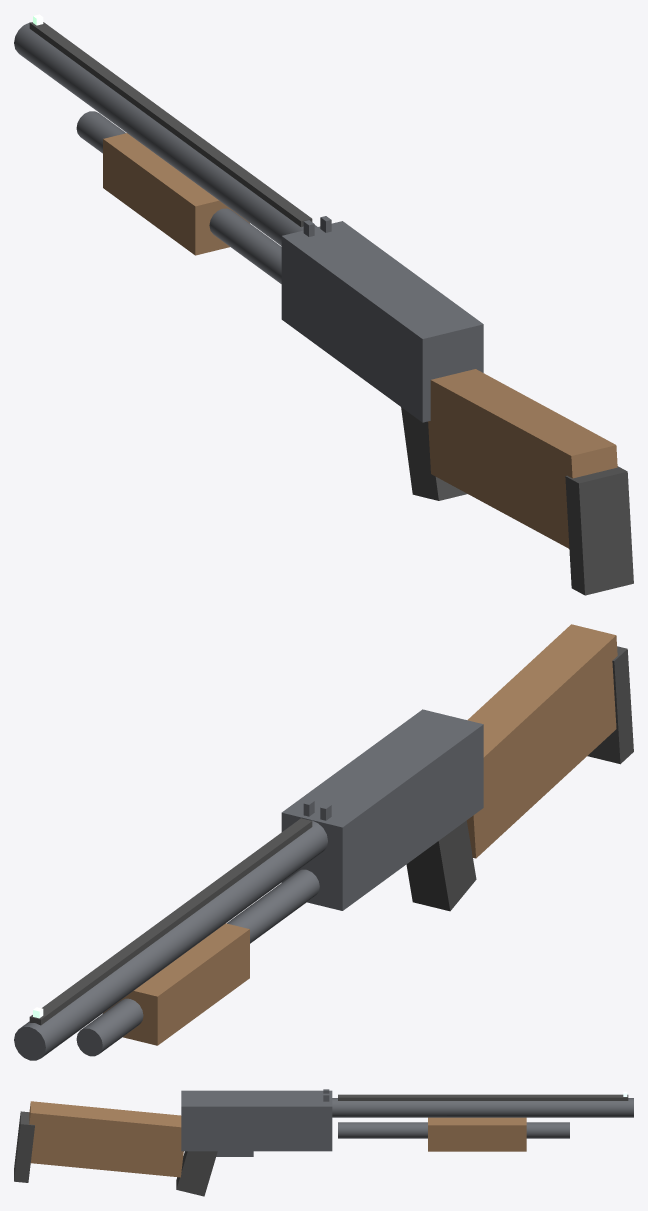
Rendered from shotgun.glb.
3 renders of one model, top to bottom at view 1: azimuth 30°, elevation 25°; view 2: azimuth 150°, elevation 25°; view 3: azimuth 270°, elevation 25°, orthographic. The views are drawn at different scales.
Parts seen in each view (by area): view 1: Receiver, Stock, Barrel, Pump, Butt Pad, Rib, Magazine Tube, Grip; view 2: Receiver, Stock, Barrel, Pump, Magazine Tube, Rib, Grip, Butt Pad; view 3: Stock, Receiver, Barrel, Pump, Magazine Tube, Rib, Grip, Butt Pad, Trigger Guard.
Boxes of the visible parts, x1,y1,x2,y2 form: Receiver: [281, 221, 483, 422]; Stock: [428, 369, 617, 548]; Barrel: [14, 22, 317, 245]; Pump: [103, 133, 249, 255]; Butt Pad: [565, 466, 633, 595]; Rib: [29, 22, 312, 227]; Magazine Tube: [76, 111, 281, 283]; Grip: [401, 407, 467, 500]; Receiver: [281, 709, 483, 910]; Stock: [466, 624, 617, 858]; Barrel: [14, 820, 327, 1060]; Pump: [103, 923, 249, 1045]; Magazine Tube: [76, 869, 319, 1056]; Rib: [29, 818, 312, 1025]; Grip: [406, 820, 476, 911]; Butt Pad: [587, 646, 633, 764]; Stock: [29, 1101, 183, 1177]; Receiver: [181, 1090, 332, 1151]; Barrel: [332, 1098, 633, 1117]; Pump: [428, 1117, 526, 1151]; Magazine Tube: [338, 1122, 569, 1138]; Rib: [338, 1094, 628, 1100]; Grip: [176, 1151, 217, 1196]; Butt Pad: [14, 1111, 34, 1182]; Trigger Guard: [216, 1151, 253, 1156].
Size of the model in its own units: 0.065 by 0.1891 by 1.07.
